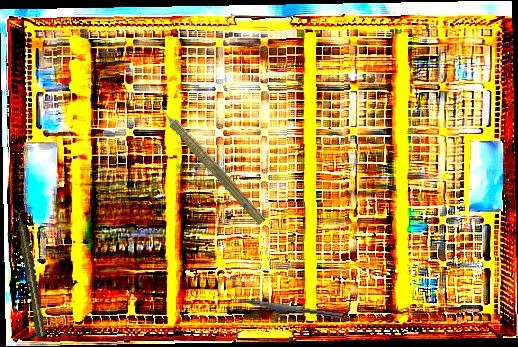Chopper: (226, 289, 345, 320)
Handpiece: (147, 93, 272, 228), (12, 206, 48, 340)
